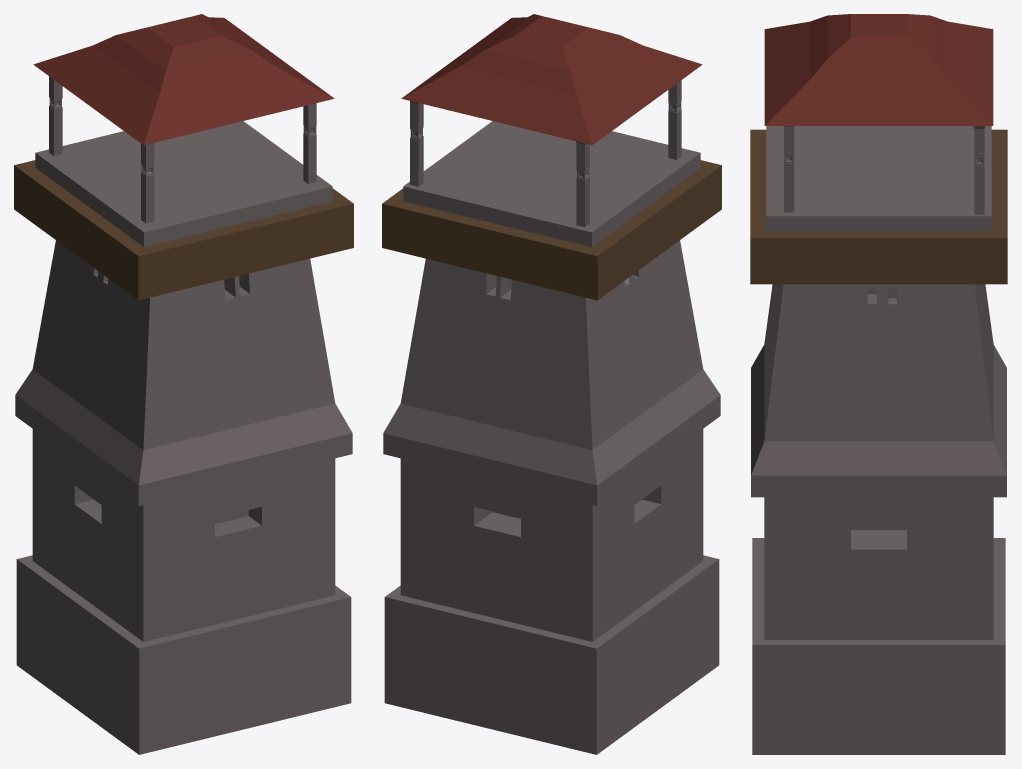
The model's file is Archer_tower.fbx.
3 views of the same model, side by side, from view 1: azimuth 30°, elevation 25°; view 2: azimuth 150°, elevation 25°; view 3: azimuth 270°, elevation 25° (orthographic). The views are drawn at different scales.
Visible parts, largest first — view 1: Archer_Tower1; view 2: Archer_Tower1; view 3: Archer_Tower1.
Part boxes in pixels (box(x1,y1,x2,y2)): Archer_Tower1: box(14, 14, 353, 754); Archer_Tower1: box(382, 14, 721, 754); Archer_Tower1: box(750, 14, 1007, 754).
Size of the model in its own units: 529 by 1531 by 529.
